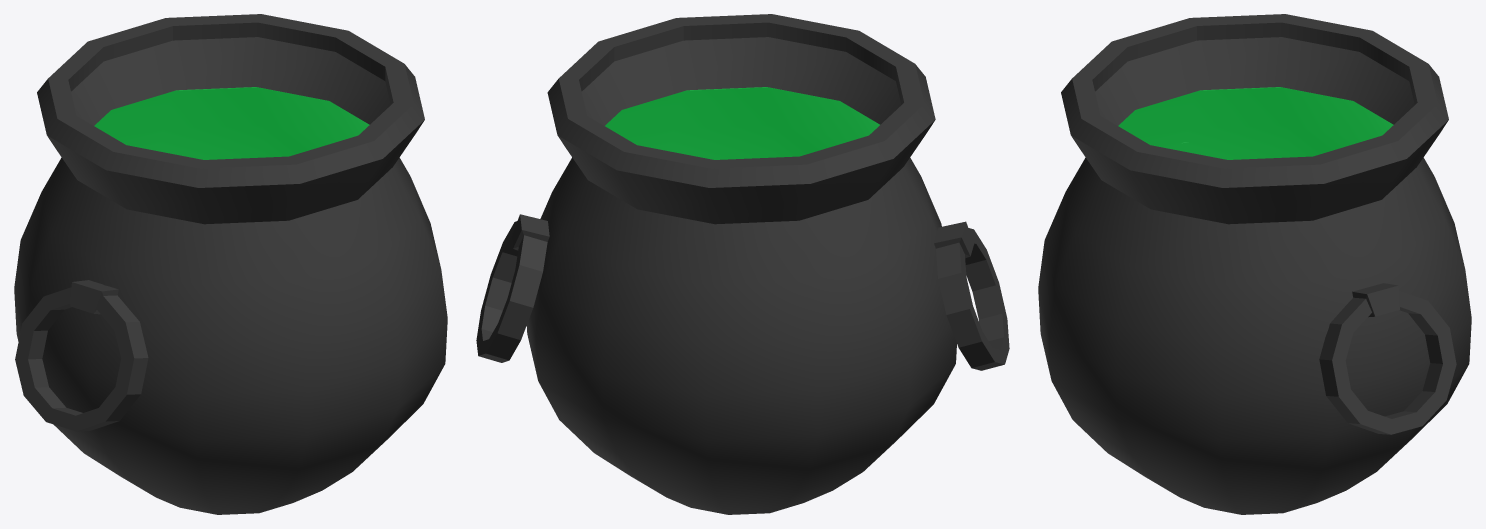
Rendered from Calderone_NO_B.fbx.
3 renders of one model, left to right at view 1: azimuth 30°, elevation 25°; view 2: azimuth 150°, elevation 25°; view 3: azimuth 270°, elevation 25°, orthographic.
Visible parts, largest first — view 1: Calderone.001; view 2: Calderone.001; view 3: Calderone.001.
Part boxes in pixels (bbox=[...]): Calderone.001: bbox=[14, 14, 447, 514]; Calderone.001: bbox=[476, 14, 1009, 514]; Calderone.001: bbox=[1038, 14, 1471, 514].
Size of the model in its own units: 162 by 137 by 138.
